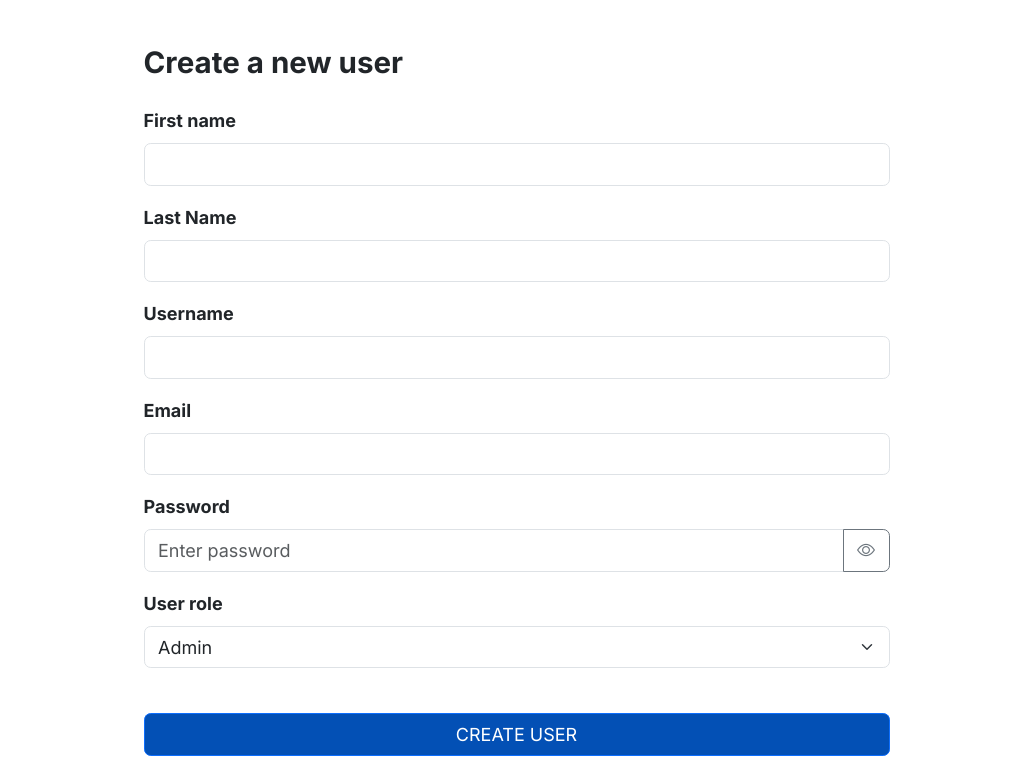
Test: UserCreation page (Vitest) › shows error when user creation fails
The image size is (1024, 768).
Check: the dropdown is shown, box [144,626,890,668]
Fill in form fields
In the field labelled "First name": (516, 165) [144,144,890,186], type "John"
In the field labelled "Last Name": (516, 261) [144,240,890,282], type "Doe"
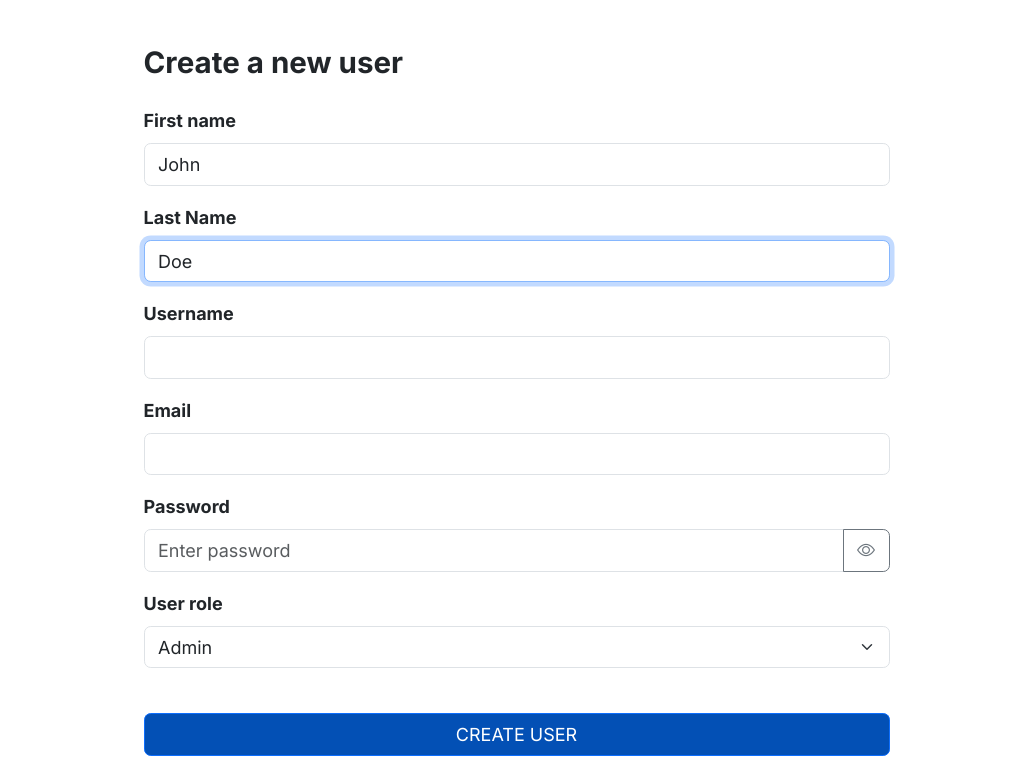
In the field labelled "Username": (516, 358) [144,336,890,379], type "johndoe"
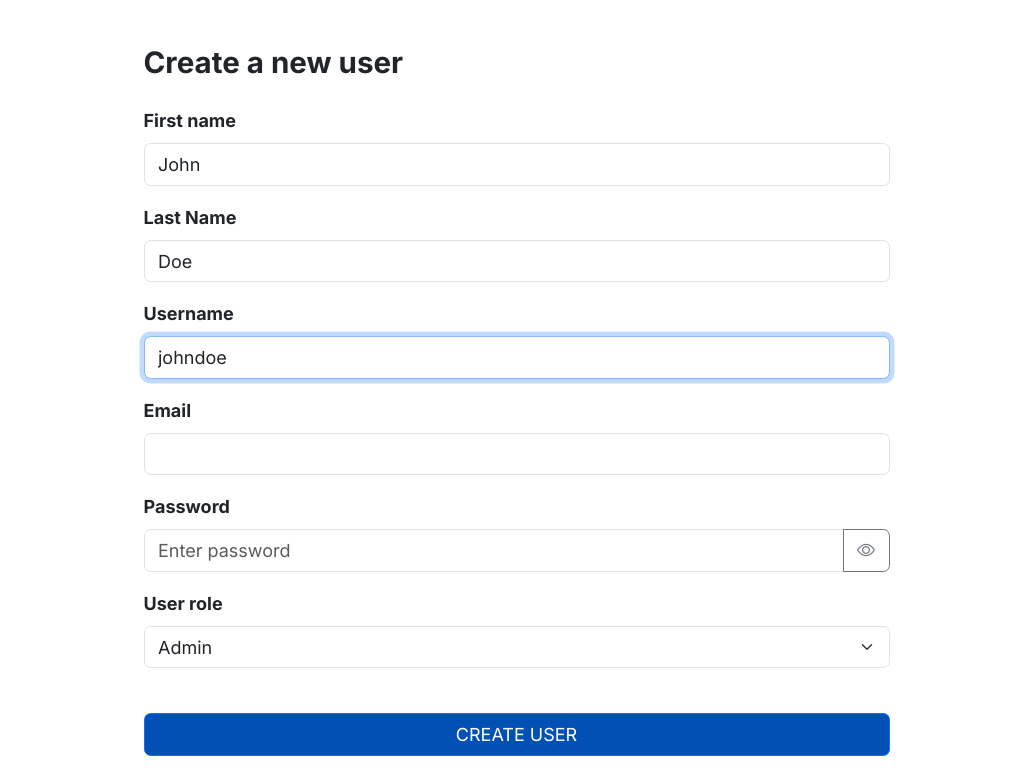
In the field labelled "Email": (516, 454) [144,433,890,476], type "john@example.com"
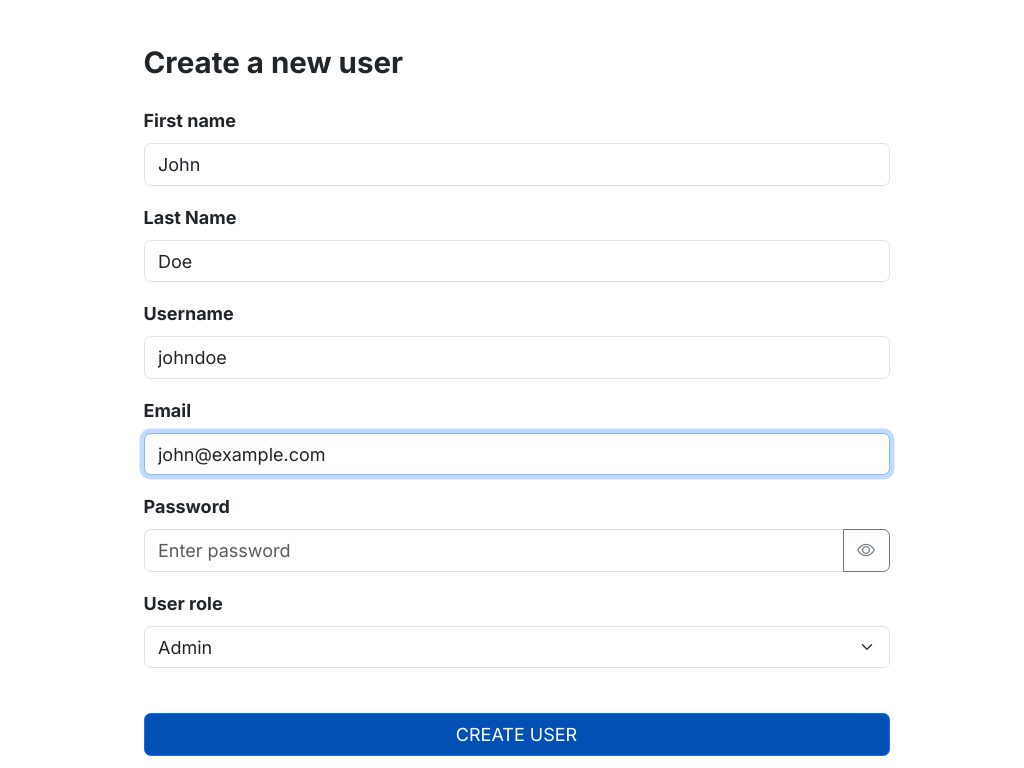
In the password field with placeholder "Enter password": (494, 551) [144,530,844,572], type "password123"
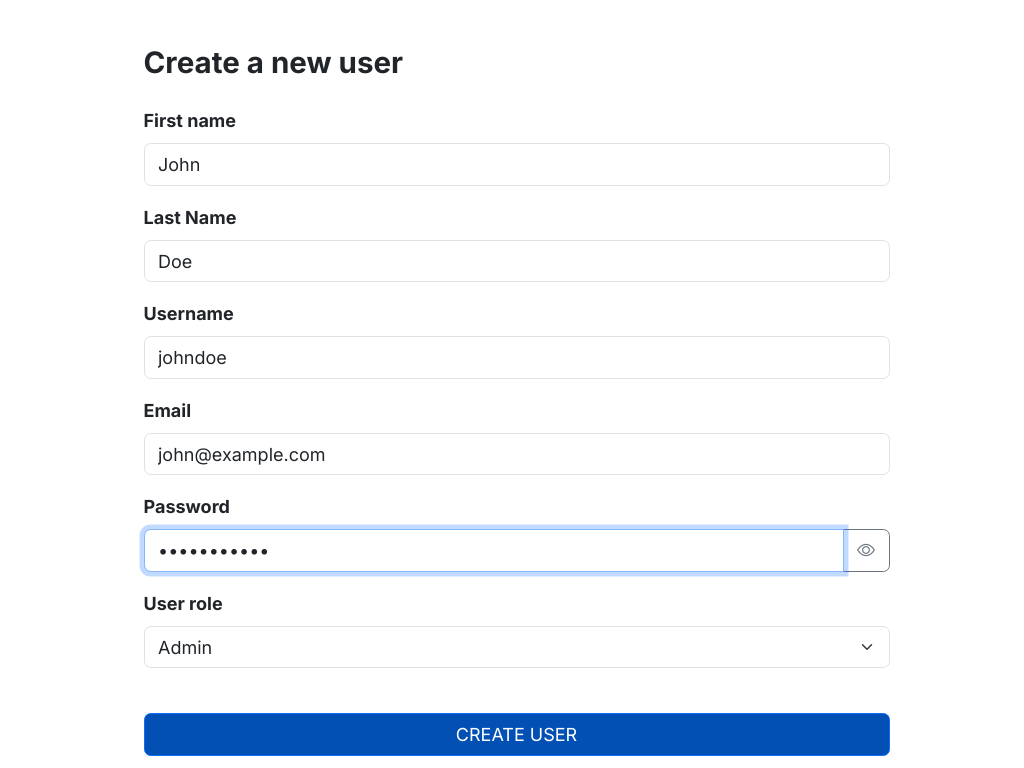
Select a role
Select "Operator" in the dropdown: (516, 647) [144,626,890,668]
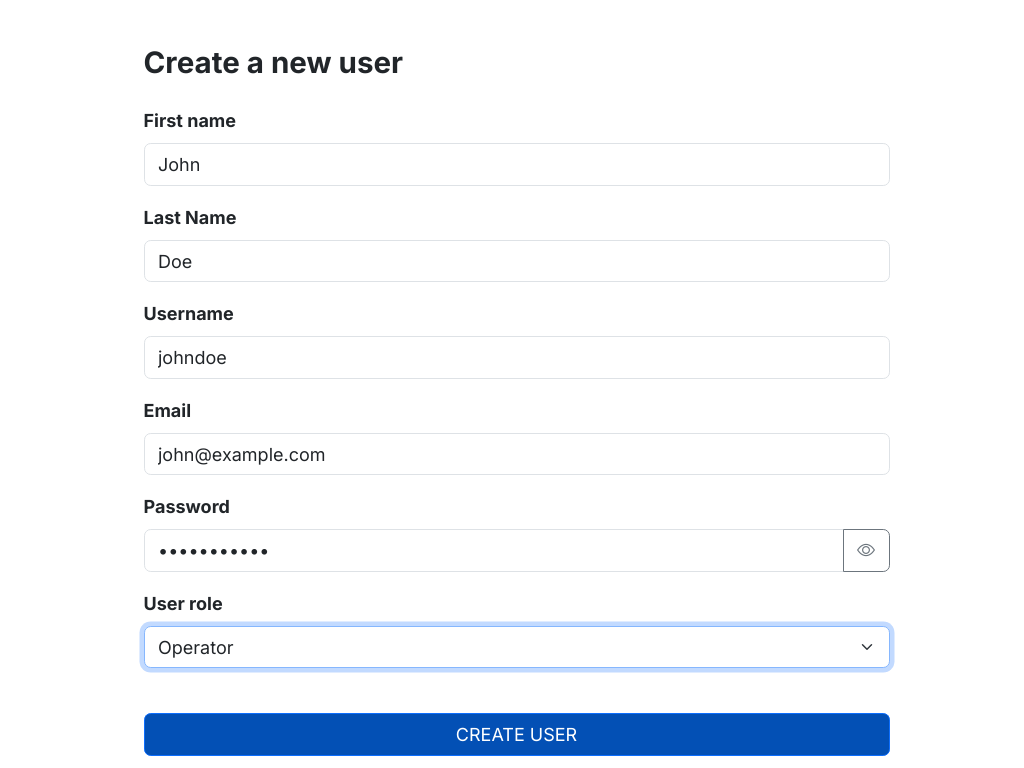
Submit form
Click the button "CREATE USER": (516, 735) [144,714,890,756]
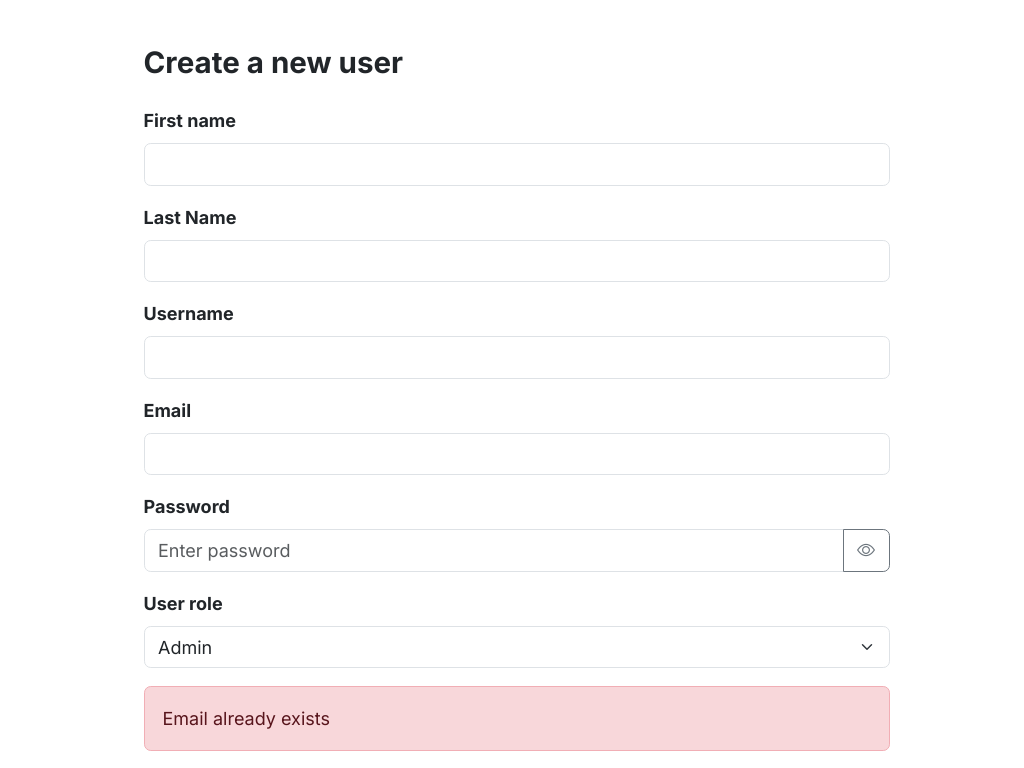
Check: the text "Email already exists" is shown, box [144,686,890,752]
